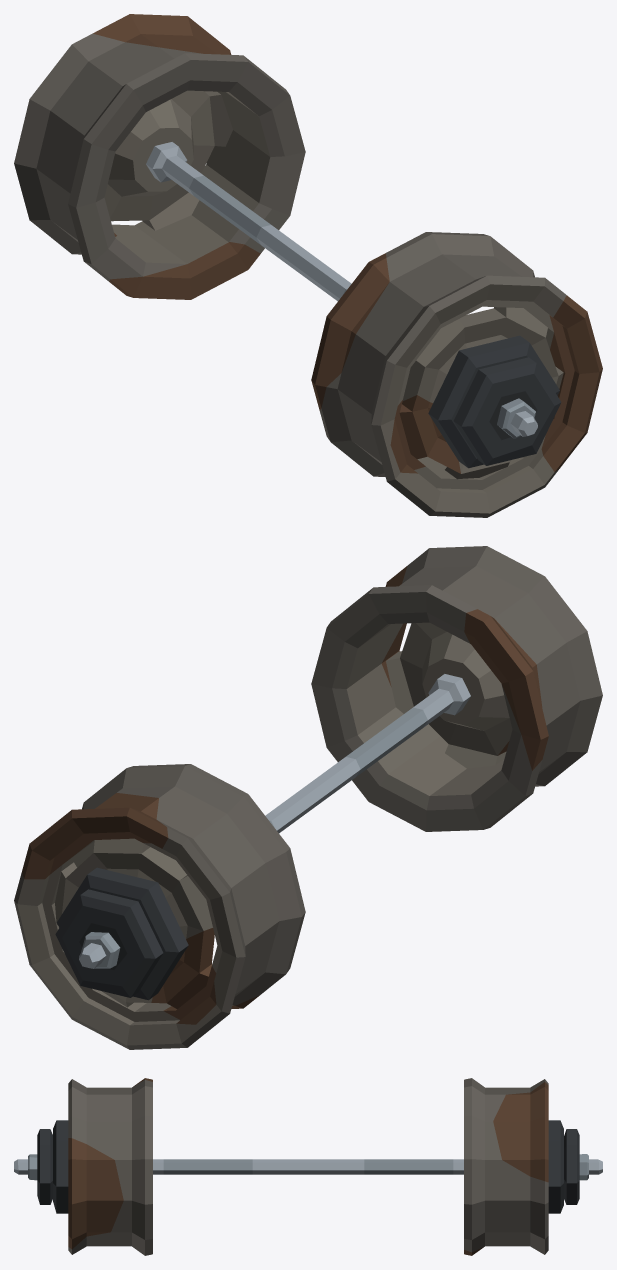
The model's file is SM_Prop_Bar_Bell_03.glb.
3 renders of one model, top to bottom at view 1: azimuth 30°, elevation 25°; view 2: azimuth 150°, elevation 25°; view 3: azimuth 270°, elevation 25°, orthographic. The views are drawn at different scales.
Parts seen in each view (by area): view 1: SM_Prop_Bar_Bell_03; view 2: SM_Prop_Bar_Bell_03; view 3: SM_Prop_Bar_Bell_03.
Part boxes in pixels (box(x1,y1,x2,y2)): SM_Prop_Bar_Bell_03: box(14, 14, 602, 517); SM_Prop_Bar_Bell_03: box(14, 546, 602, 1049); SM_Prop_Bar_Bell_03: box(14, 1078, 602, 1255).
Size of the model in its own units: 0.56 by 0.56 by 1.85.
Materials: 1 (1 with a texture image).
